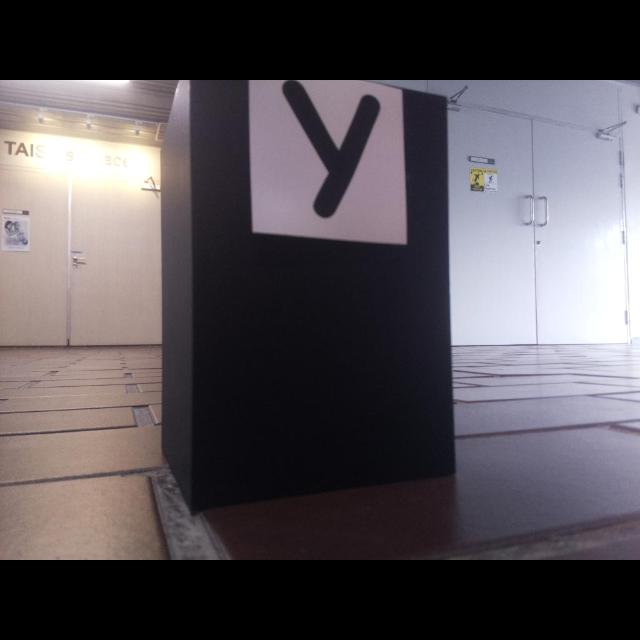Y: (284, 80, 380, 217)
